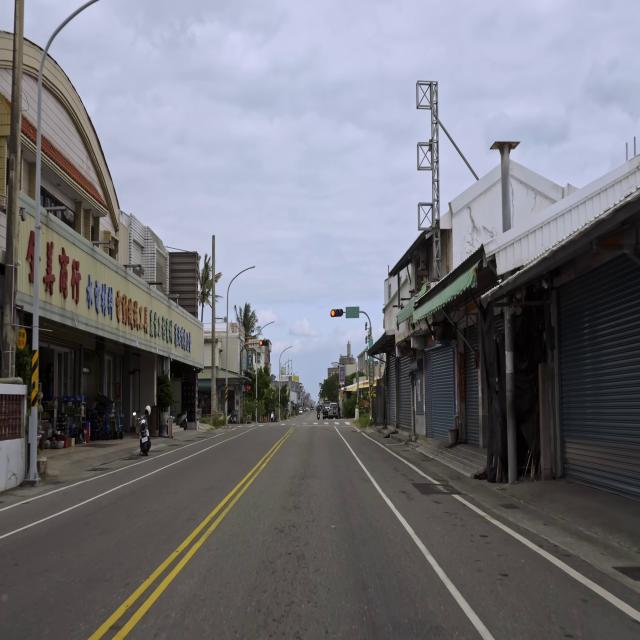red light: (331, 309, 343, 317), (259, 339, 269, 347)
